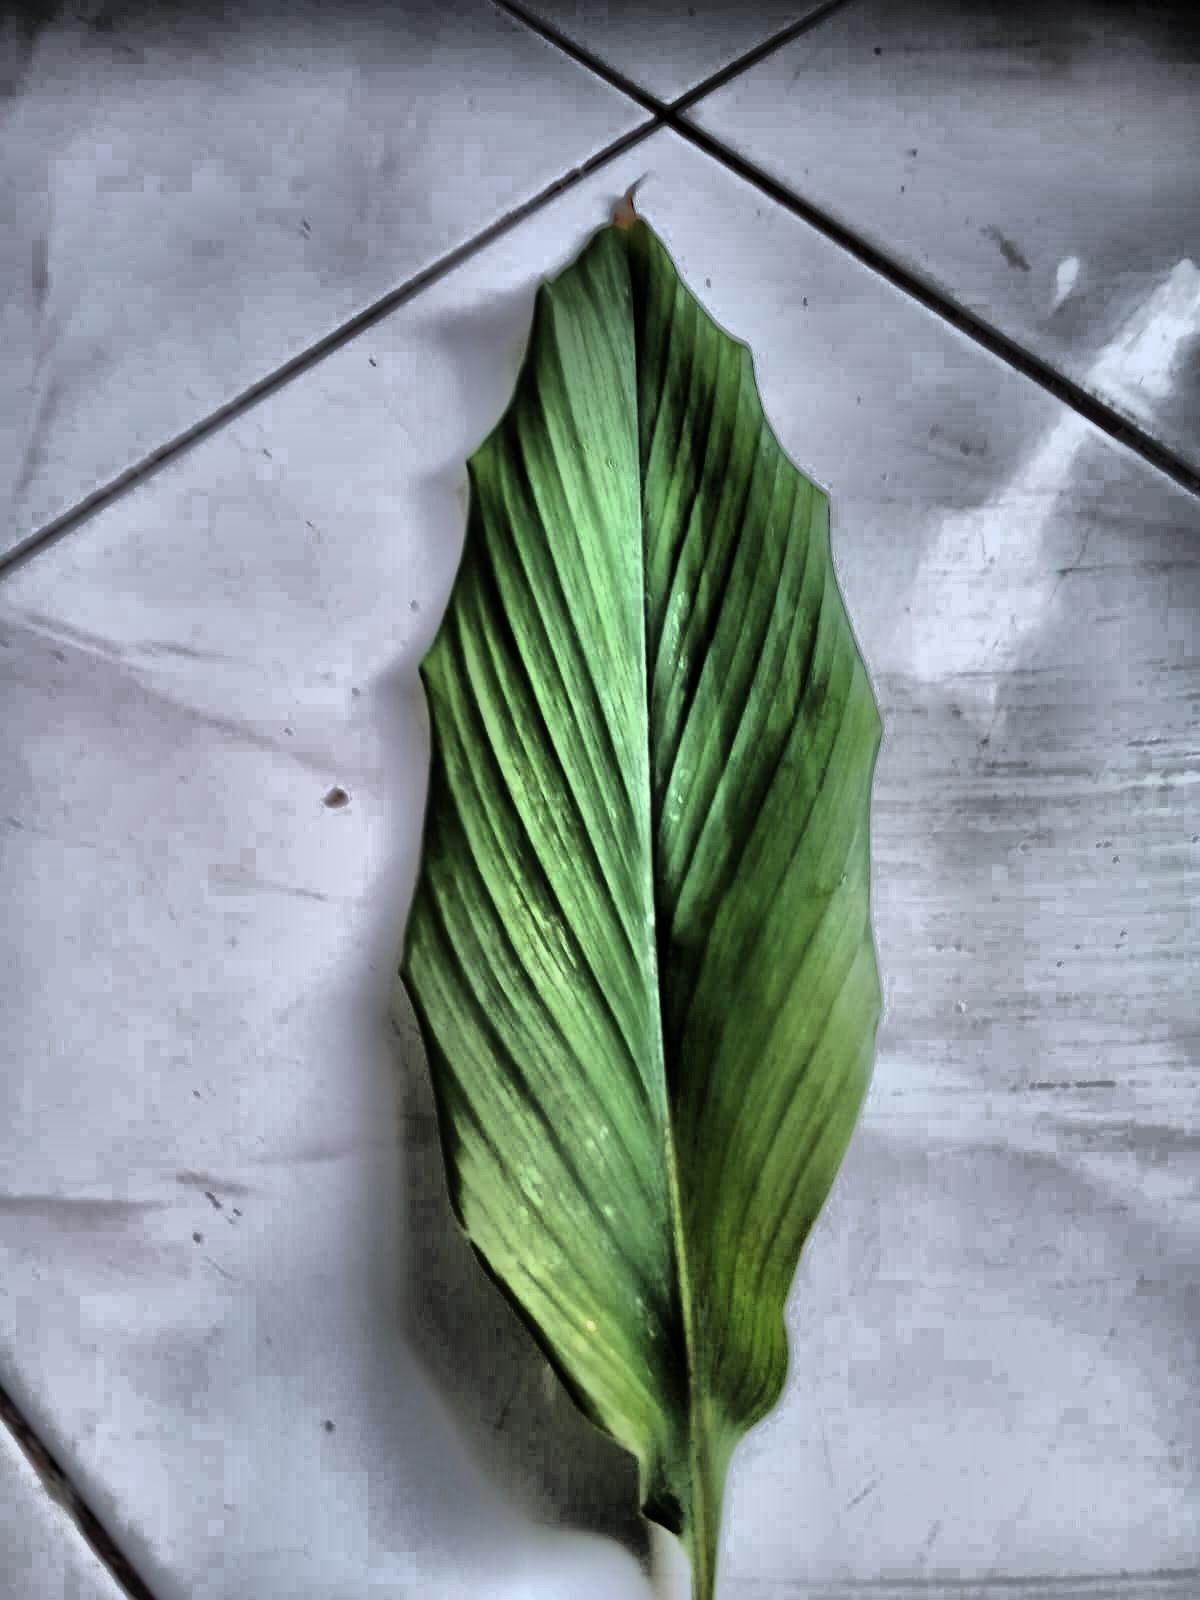daun kunyit: (402, 215, 880, 1599)
